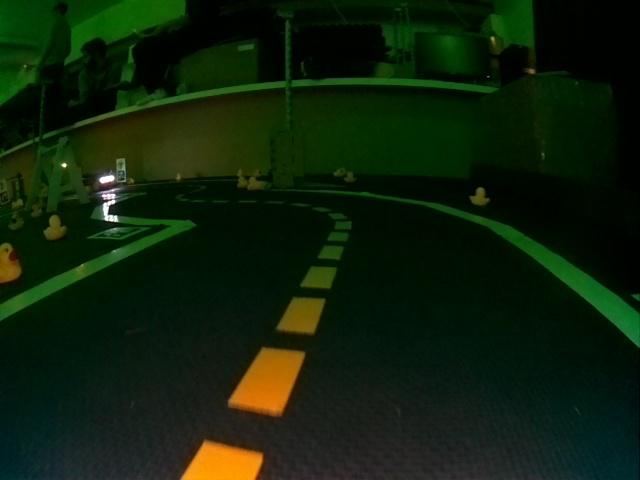Duckie: (0, 243, 22, 282), (43, 215, 66, 240), (469, 187, 490, 205), (8, 215, 24, 230), (247, 177, 262, 190), (344, 172, 357, 182), (30, 207, 43, 217), (237, 176, 247, 188), (333, 169, 343, 177)
Duckiebot: (82, 173, 117, 191)
Intersection sign: (116, 158, 125, 170)
QR code: (89, 227, 150, 239), (116, 172, 126, 182)
